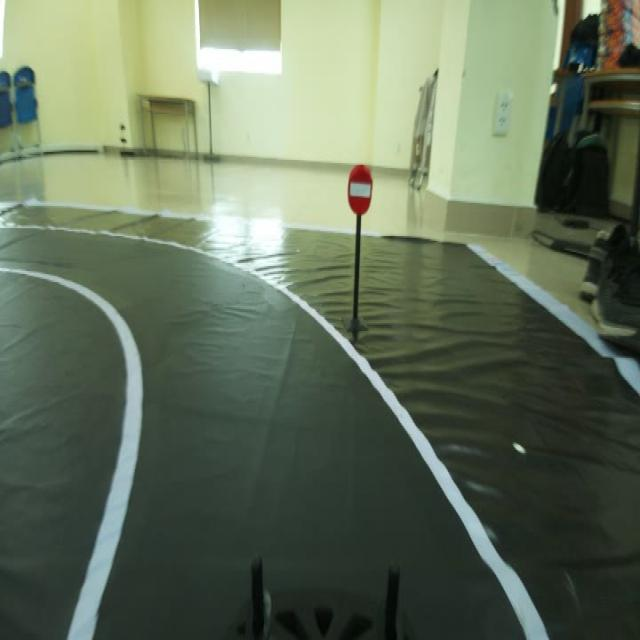no_entry: (342, 157, 380, 225)
